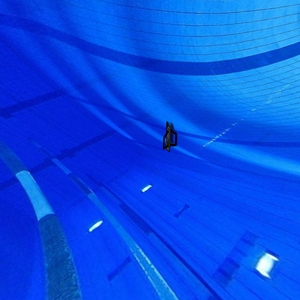submarine: (160, 116, 179, 154)
